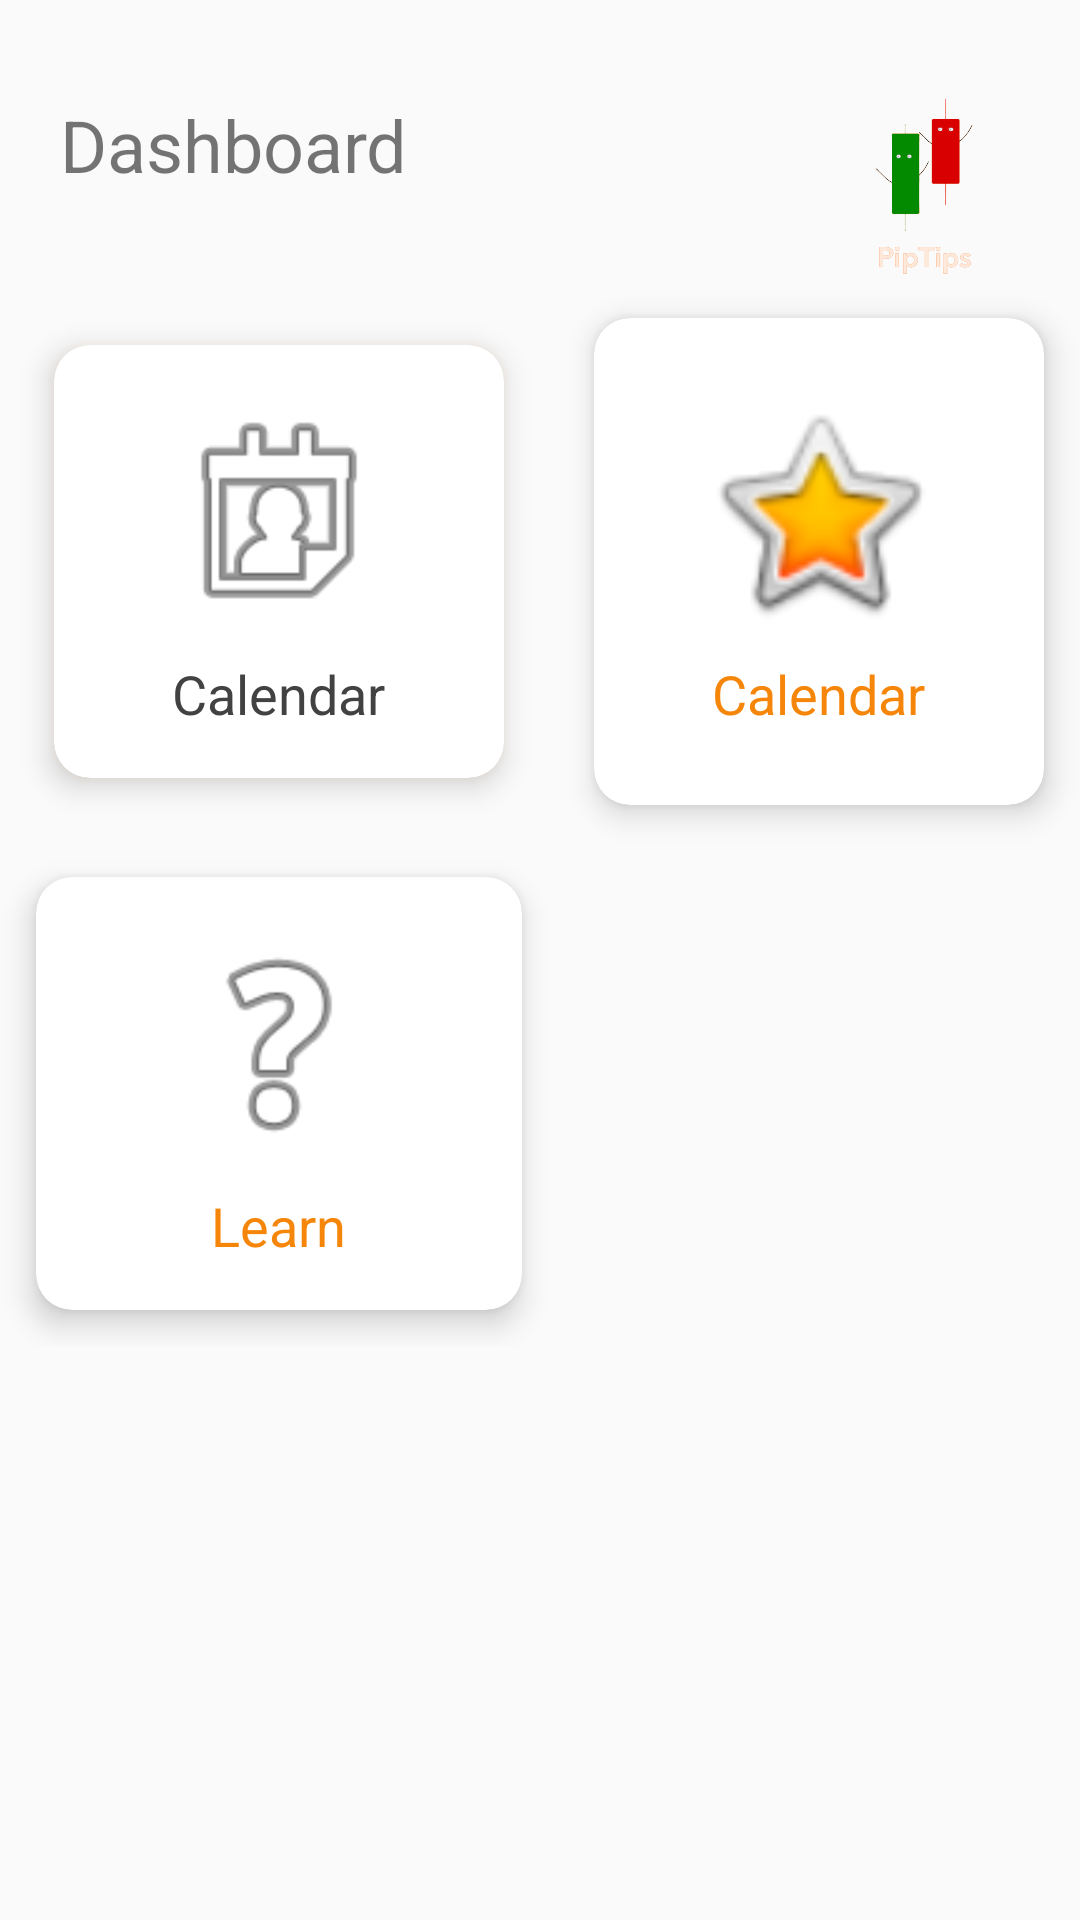

Where to tap for icons on this 1080×1920 app screen, as [x,y]:
help: [279,1045]
star on: [821,515]
